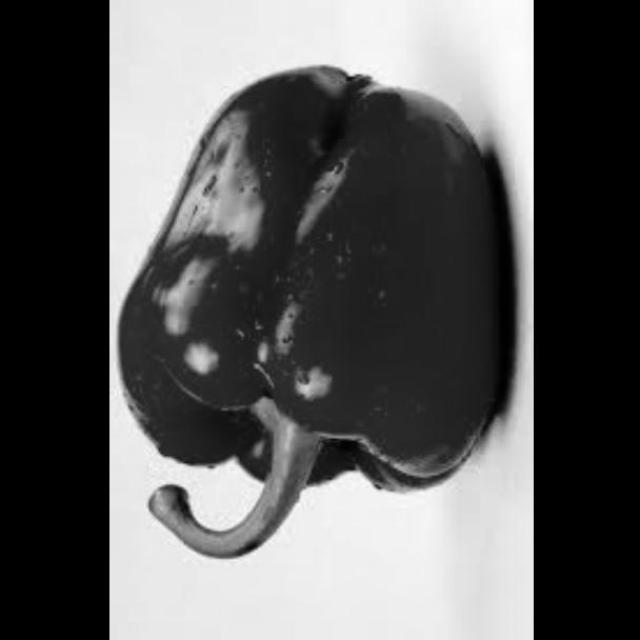bell pepper: (111, 60, 508, 565)
